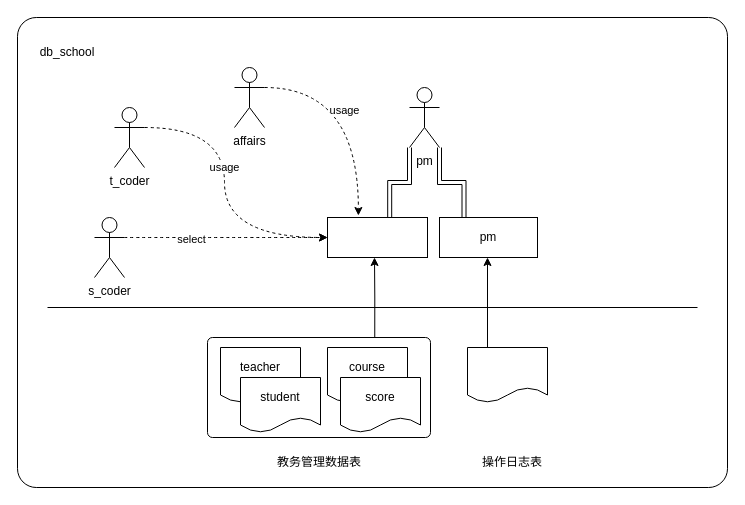
Some shapes in this 745 by 505 pixel diagram are drawn without their labels. The centre of each missing label's shape, as x and y in pixels:
"audit_log" goes at point 507,374.
"public" goes at point 377,237.
